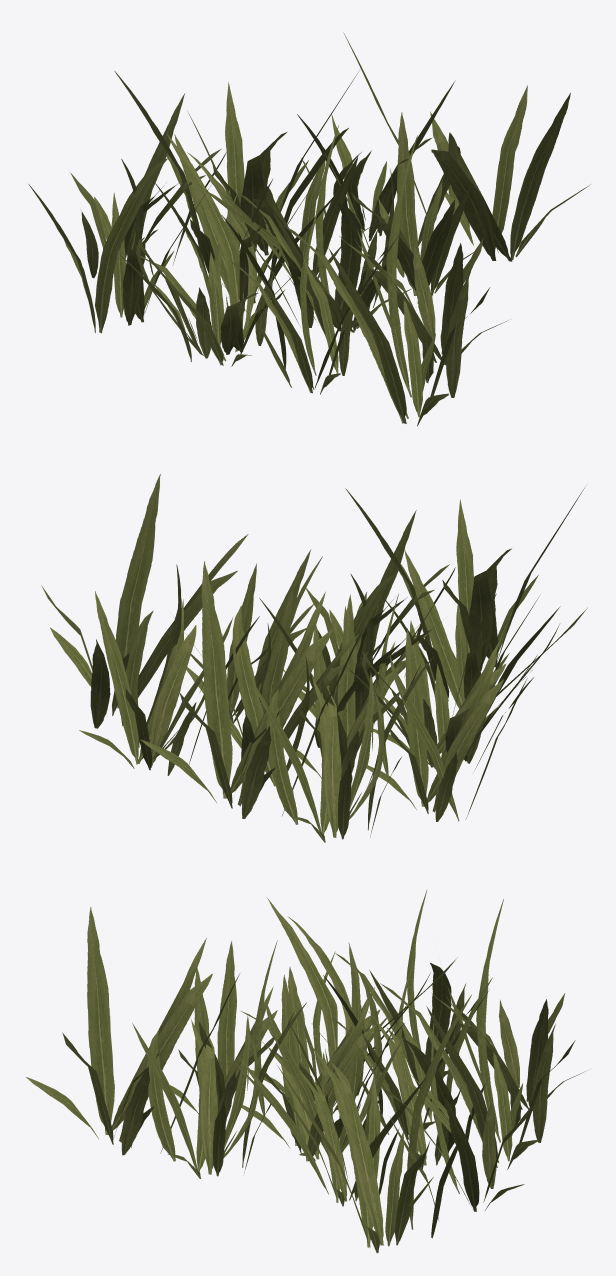
Rendered from grass.glb.
3 renders of one model, top to bottom at view 1: azimuth 30°, elevation 25°; view 2: azimuth 150°, elevation 25°; view 3: azimuth 270°, elevation 25°, orthographic. The views are drawn at different scales.
Parts seen in each view (by area): view 1: LowPoly Grass; view 2: LowPoly Grass; view 3: LowPoly Grass.
Boxes of the visible parts, left/top/right/bottom form: LowPoly Grass: left=28, top=32, right=590, bottom=426; LowPoly Grass: left=41, top=474, right=587, bottom=842; LowPoly Grass: left=26, top=889, right=588, bottom=1253.
Size of the model in its own units: 2.22 by 0.9002 by 2.21.
Materials: 1 (1 with a texture image).
